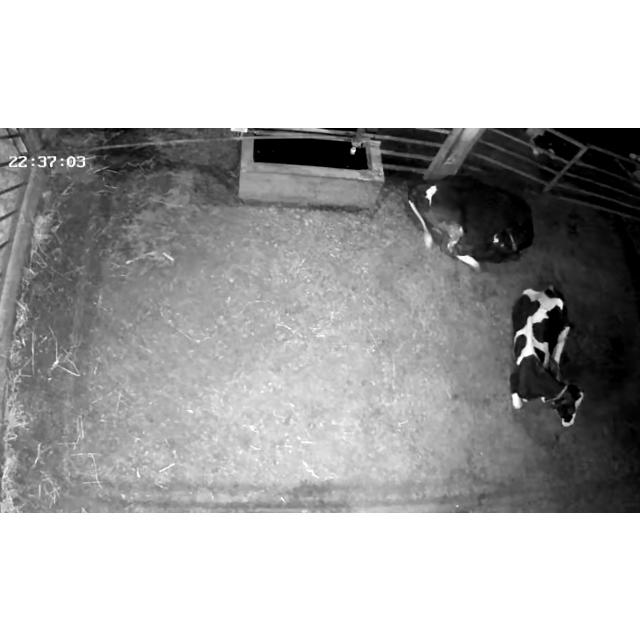lay: (405, 174, 534, 270), (509, 284, 584, 426)
